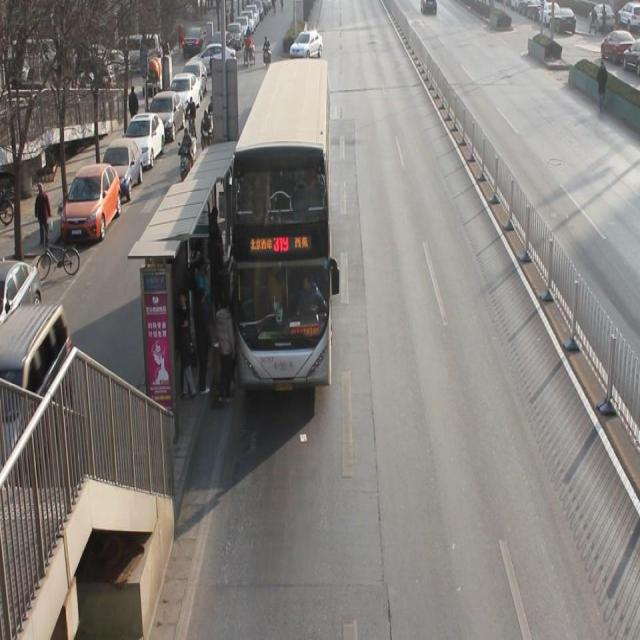car: (289, 30, 323, 62)
van: (232, 63, 332, 390)
